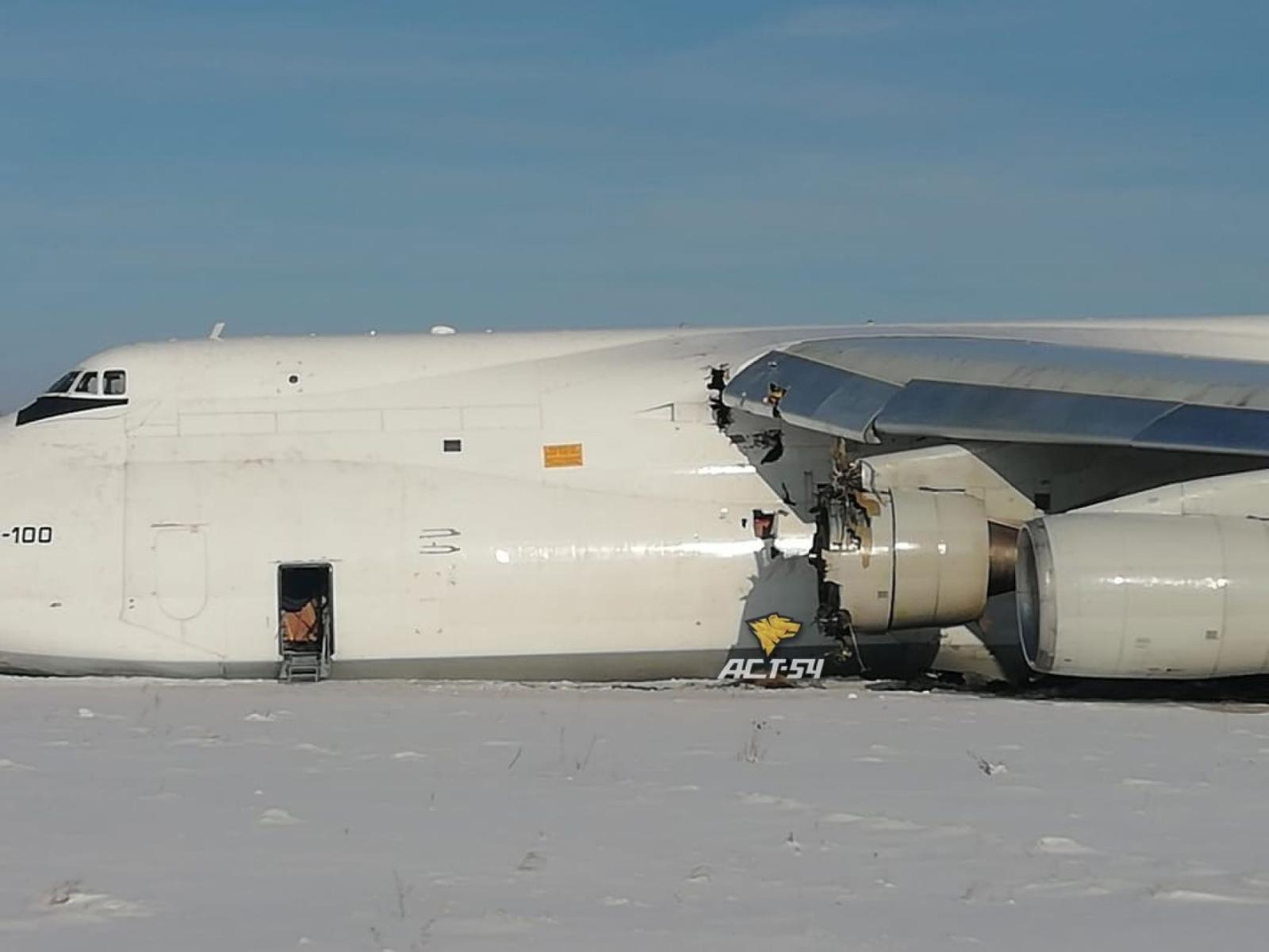Engine_damage: (818, 440, 880, 549), (810, 523, 844, 637)
Fuselage_damage: (752, 510, 777, 545), (760, 431, 783, 464), (707, 366, 728, 397), (712, 403, 732, 432)
Wing_damage: (765, 383, 786, 417)
